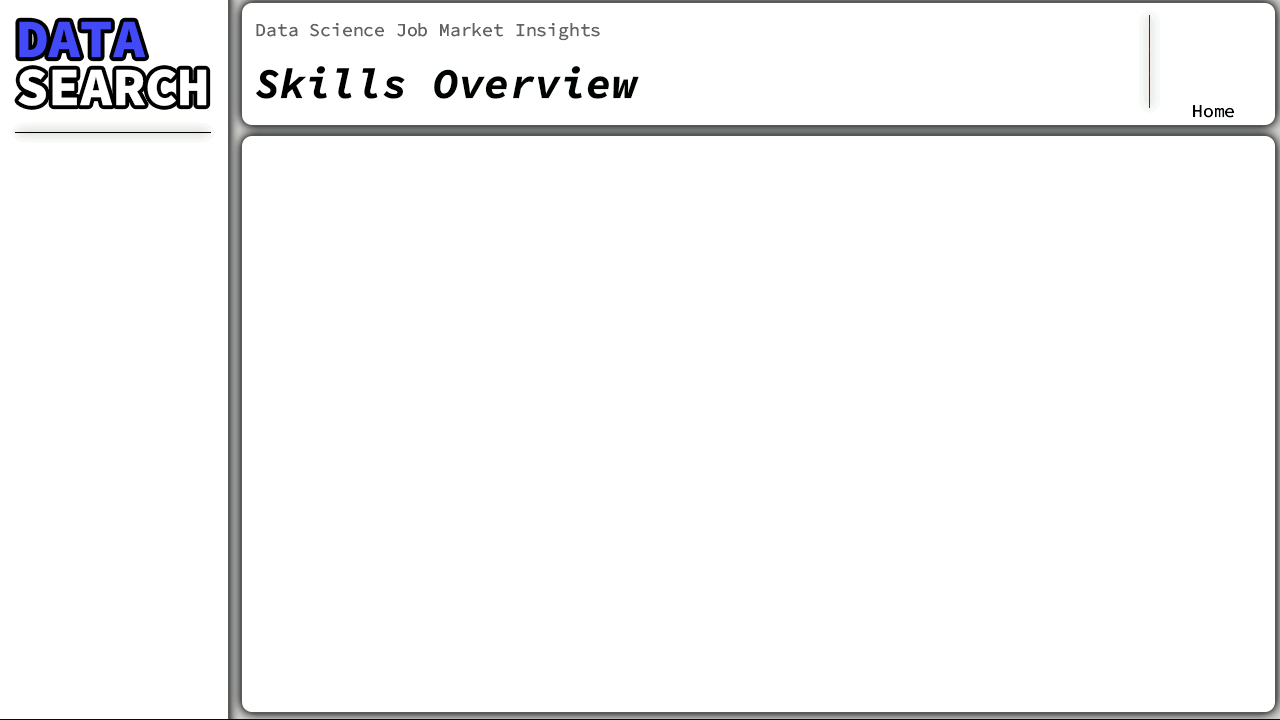

Layout of this report page (visuals, bound fields, positions):
{"tool":"powerbi","page":{"name":"Skills","canvas":[1280,720],"ordinal":2},"visuals":[{"type":"slicer","fields":{"Values":["Job Postings.Job Title"]},"box":[0,146.9,218.8,81.7],"z":0},{"type":"slicer","fields":{"Values":["Job Postings.Company Name"]},"box":[0,310.3,218.8,80.7],"z":1000},{"type":"slicer","fields":{"Values":["Job Postings.Job Position Level"]},"box":[0,228.6,218.8,80.7],"z":2000},{"type":"slicer","fields":{"Values":["Job Postings.Company Size"]},"box":[0,386.1,218.8,91.4],"z":3000},{"type":"slicer","fields":{"Values":["Job Postings.Company Industry"]},"box":[0.3,477.8,218.8,80.7],"z":4000},{"type":"slicer","fields":{"Values":["Job Postings.Job Posting Date"]},"box":[0,562.2,218.8,107],"z":5000},{"type":"clusteredColumnChart","fields":{"Category":["Job Skills.Job Skills"],"Y":["CountNonNull(Job Skills.Job Posting ID)"]},"box":[250,146.9,493.1,305.4],"z":6000},{"type":"lineChart","fields":{"Y":["_Measures.% Skill in Posting"],"Category":["Job Postings.Job Posting Date.Variation.Date Hierarchy.Year","Job Postings.Job Posting Date.Variation.Date Hierarchy.Quarter","Job Postings.Job Posting Date.Variation.Date Hierarchy.Month","Job Postings.Job Posting Date.Variation.Date Hierarchy.Day"],"Series":["Job Skills.Job Skills"]},"box":[743.1,146.9,521.3,301.5],"z":7000},{"type":"pivotTable","title":"% a Skill is included in a Job Posting","fields":{"Rows":["Job Skills.Job Skills"],"Values":["_Measures.% Skill in Posting"],"Columns":["Job Postings.Job Title"]},"box":[250,452.3,1014.5,247.1],"z":8000},{"type":"card","title":"Job Posting Count","fields":{"Values":["Count(Job Skills.Job Skills)"]},"box":[640,10.7,228.6,101.2],"z":9000},{"type":"card","fields":{"Values":["Count(Job Skills.Job Posting ID)"]},"box":[879.3,10.7,228.6,101.2],"z":10000},{"type":"image","box":[1170.6,12.4,88,88],"z":10001}]}

Visuals, with their boxes in screenshot pixels (x1, y1, x2, y2), scaled from the page's 1280x720 canvas onto the 1280x720 screenshot:
slicer - Job Postings.Job Title: region(0, 147, 219, 229)
slicer - Job Postings.Company Name: region(0, 310, 219, 391)
slicer - Job Postings.Job Position Level: region(0, 229, 219, 309)
slicer - Job Postings.Company Size: region(0, 386, 219, 478)
slicer - Job Postings.Company Industry: region(0, 478, 219, 558)
slicer - Job Postings.Job Posting Date: region(0, 562, 219, 669)
clusteredColumnChart - Job Skills.Job Skills x CountNonNull(Job Skills.Job Posting ID): region(250, 147, 743, 452)
lineChart - _Measures.% Skill in Posting x Job Postings.Job Posting Date.Variation.Date Hierarchy.Year: region(743, 147, 1264, 448)
"% a Skill is included in a Job Posting" pivotTable: region(250, 452, 1264, 699)
"Job Posting Count" card: region(640, 11, 869, 112)
card - Count(Job Skills.Job Posting ID): region(879, 11, 1108, 112)
image: region(1171, 12, 1259, 100)
